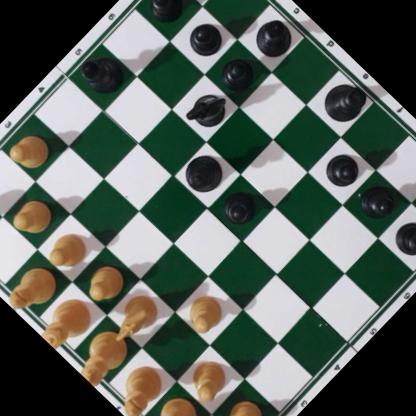black-bishop: (74, 44, 132, 102), (246, 11, 301, 65)
black-king: (317, 71, 375, 129), (178, 146, 231, 199)
black-knight: (183, 83, 234, 134)
black-pawn: (216, 181, 266, 231), (320, 144, 368, 193), (356, 178, 402, 225), (217, 48, 263, 95), (183, 15, 229, 61), (389, 213, 416, 264), (144, 0, 190, 27)
white-bishop: (0, 259, 65, 323), (109, 358, 170, 416)
white-king: (70, 320, 137, 388)
white-knight: (104, 286, 168, 352)
white-pawn: (183, 352, 238, 407), (5, 125, 56, 176), (8, 191, 59, 242), (180, 287, 231, 338), (43, 224, 93, 275), (81, 257, 131, 307), (220, 393, 272, 416)
white-queen: (34, 289, 100, 356)
white-rook: (144, 392, 205, 416)
